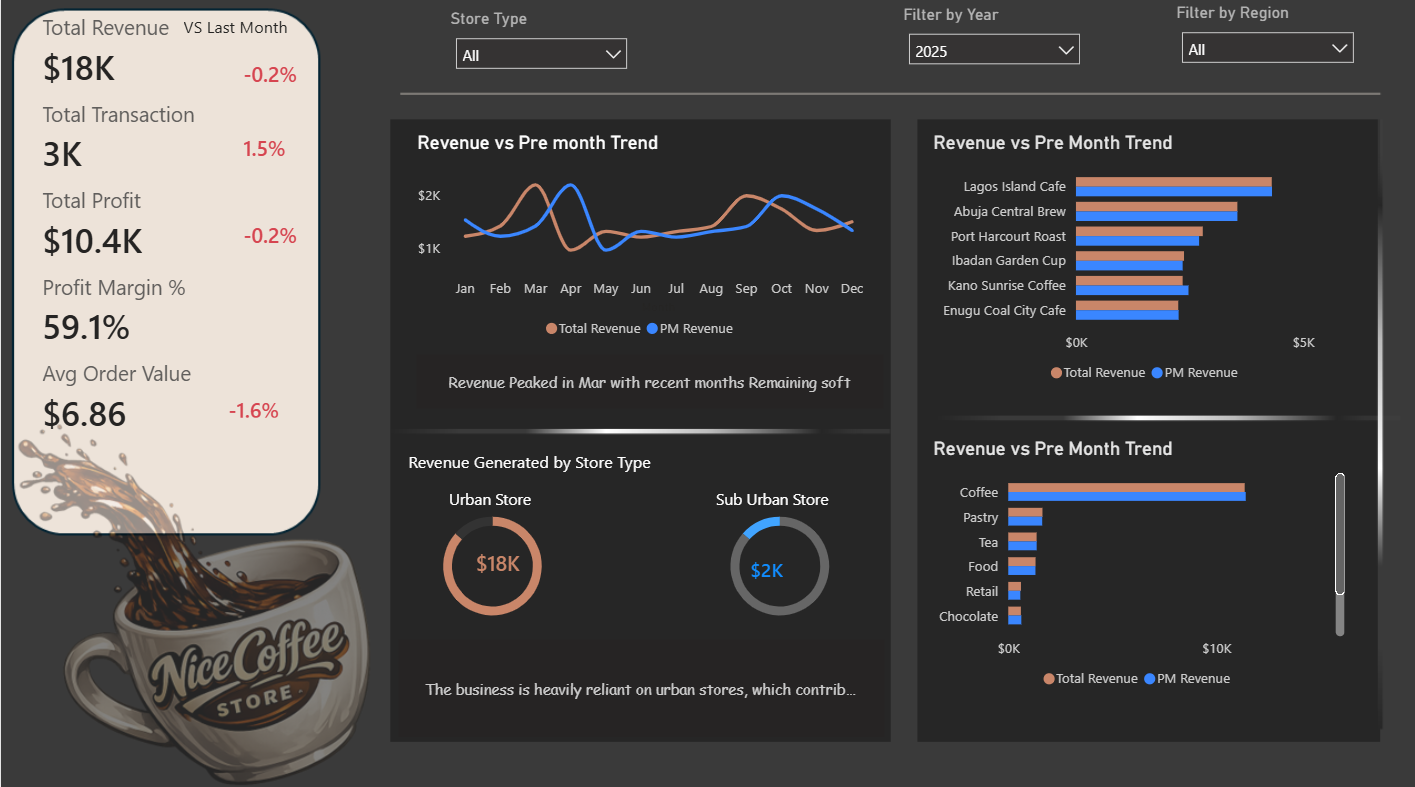

This screenshot's page, from the dashboard's own definition file:
{"tool":"powerbi","page":{"name":"Page 1","canvas":[1280,720],"ordinal":0},"visuals":[{"type":"cardVisual","fields":{"Data":["Table DAX.Total Revenue","Table DAX.Total Transaction","Table DAX.Total Profit","Table DAX.Profit Margin %","Table DAX.Avg Order Value"]},"box":[7.6,0,234.7,419.4],"z":0},{"type":"textbox","box":[159,15.1,116.6,30.3],"z":1000},{"type":"cardVisual","fields":{"Data":["Table DAX.Revenue MOM %"]},"box":[189.3,177.2,118.1,78.7],"z":2000},{"type":"cardVisual","fields":{"Data":["Table DAX.Transaction MOM %"]},"box":[189.3,98.4,118.1,78.7],"z":3000},{"type":"cardVisual","fields":{"Data":["Table DAX.Profit MOM %"]},"box":[189.3,45.4,118.1,53],"z":4000},{"type":"cardVisual","fields":{"Data":["Table DAX.AOV MOM %"]},"box":[175.6,348.3,131.7,51.5],"z":5000},{"type":"cardVisual","fields":{"Data":["Table DAX.Insight LineChart"]},"box":[369.5,321,431.5,59.1],"z":6000},{"type":"clusteredBarChart","title":"Revenue vs Pre Month Trend","fields":{"Category":["DimStore3.StoreName"],"Y":["Table DAX.Total Revenue","Table DAX.PM Revenue"]},"box":[835.8,124.2,393.7,236.2],"z":7000},{"type":"clusteredBarChart","title":"Revenue vs Pre Month Trend","fields":{"Category":["DimProduct.Category"],"Y":["Table DAX.Total Revenue","Table DAX.PM Revenue"]},"box":[835.8,399.8,380.1,236.2],"z":8000},{"type":"textbox","box":[362.3,406.9,258.2,40.6],"z":9000},{"type":"textbox","box":[398.8,440.7,87.9,29.7],"z":10000},{"type":"textbox","box":[639.4,440.7,124.4,29.7],"z":11000},{"type":"donutChart","fields":{"Y":["Table DAX.Total Revenue"],"Category":["DimStore3.StoreType"]},"box":[361.9,455.8,160.5,121.1],"z":12000},{"type":"donutChart","fields":{"Y":["Table DAX.Total Revenue"],"Category":["DimStore3.StoreType"]},"box":[595.1,455.8,213.5,121.1],"z":13000},{"type":"cardVisual","fields":{"Data":["Table DAX.Total Revenue"]},"box":[398.2,472.4,118.1,78.7],"z":14000},{"type":"cardVisual","fields":{"Data":["Table DAX.Store Type insight"]},"box":[352.8,557.2,448.2,118.1],"z":15000},{"type":"cardVisual","fields":{"Data":["Table DAX.Total Revenue"]},"box":[646.3,478.1,119.1,79.4],"z":16000},{"type":"lineChart","title":"Revenue vs Pre month Trend","fields":{"Y":["Table DAX.Total Revenue","Table DAX.PM Revenue"],"Category":["Calender.Month"]},"box":[370.4,124.7,413.9,196.5],"z":17000},{"type":"slicer","title":"Filter by Region","fields":{"Values":["DimStore3.Region"]},"box":[1054.3,9.5,174.4,62.2],"z":18000},{"type":"slicer","title":"Filter by Year","fields":{"Values":["Calender.Year"]},"box":[808.8,11.3,173.9,69.9],"z":19000},{"type":"slicer","title":"Store Type","fields":{"Values":["DimStore3.StoreType"]},"box":[399.8,15.1,174.1,69.7],"z":20000}]}

Visuals, with their boxes in screenshot pixels (x1, y1, x2, y2), scaled from the page's 1280x720 canvas onto the 1415x787 screenshot:
cardVisual - Table DAX.Total Revenue x Table DAX.Total Transaction: locate(8, 0, 268, 458)
textbox: locate(176, 17, 305, 50)
cardVisual - Table DAX.Revenue MOM %: locate(209, 194, 340, 280)
cardVisual - Table DAX.Transaction MOM %: locate(209, 108, 340, 194)
cardVisual - Table DAX.Profit MOM %: locate(209, 50, 340, 108)
cardVisual - Table DAX.AOV MOM %: locate(194, 381, 340, 437)
cardVisual - Table DAX.Insight LineChart: locate(408, 351, 885, 415)
"Revenue vs Pre Month Trend" clusteredBarChart: locate(924, 136, 1359, 394)
"Revenue vs Pre Month Trend" clusteredBarChart: locate(924, 437, 1344, 695)
textbox: locate(401, 445, 686, 489)
textbox: locate(441, 482, 538, 514)
textbox: locate(707, 482, 844, 514)
donutChart - Table DAX.Total Revenue x DimStore3.StoreType: locate(400, 498, 577, 631)
donutChart - Table DAX.Total Revenue x DimStore3.StoreType: locate(658, 498, 894, 631)
cardVisual - Table DAX.Total Revenue: locate(440, 516, 571, 602)
cardVisual - Table DAX.Store Type insight: locate(390, 609, 885, 738)
cardVisual - Table DAX.Total Revenue: locate(714, 523, 846, 609)
"Revenue vs Pre month Trend" lineChart: locate(409, 136, 867, 351)
"Filter by Region" slicer: locate(1165, 10, 1358, 78)
"Filter by Year" slicer: locate(894, 12, 1086, 89)
"Store Type" slicer: locate(442, 17, 634, 93)
